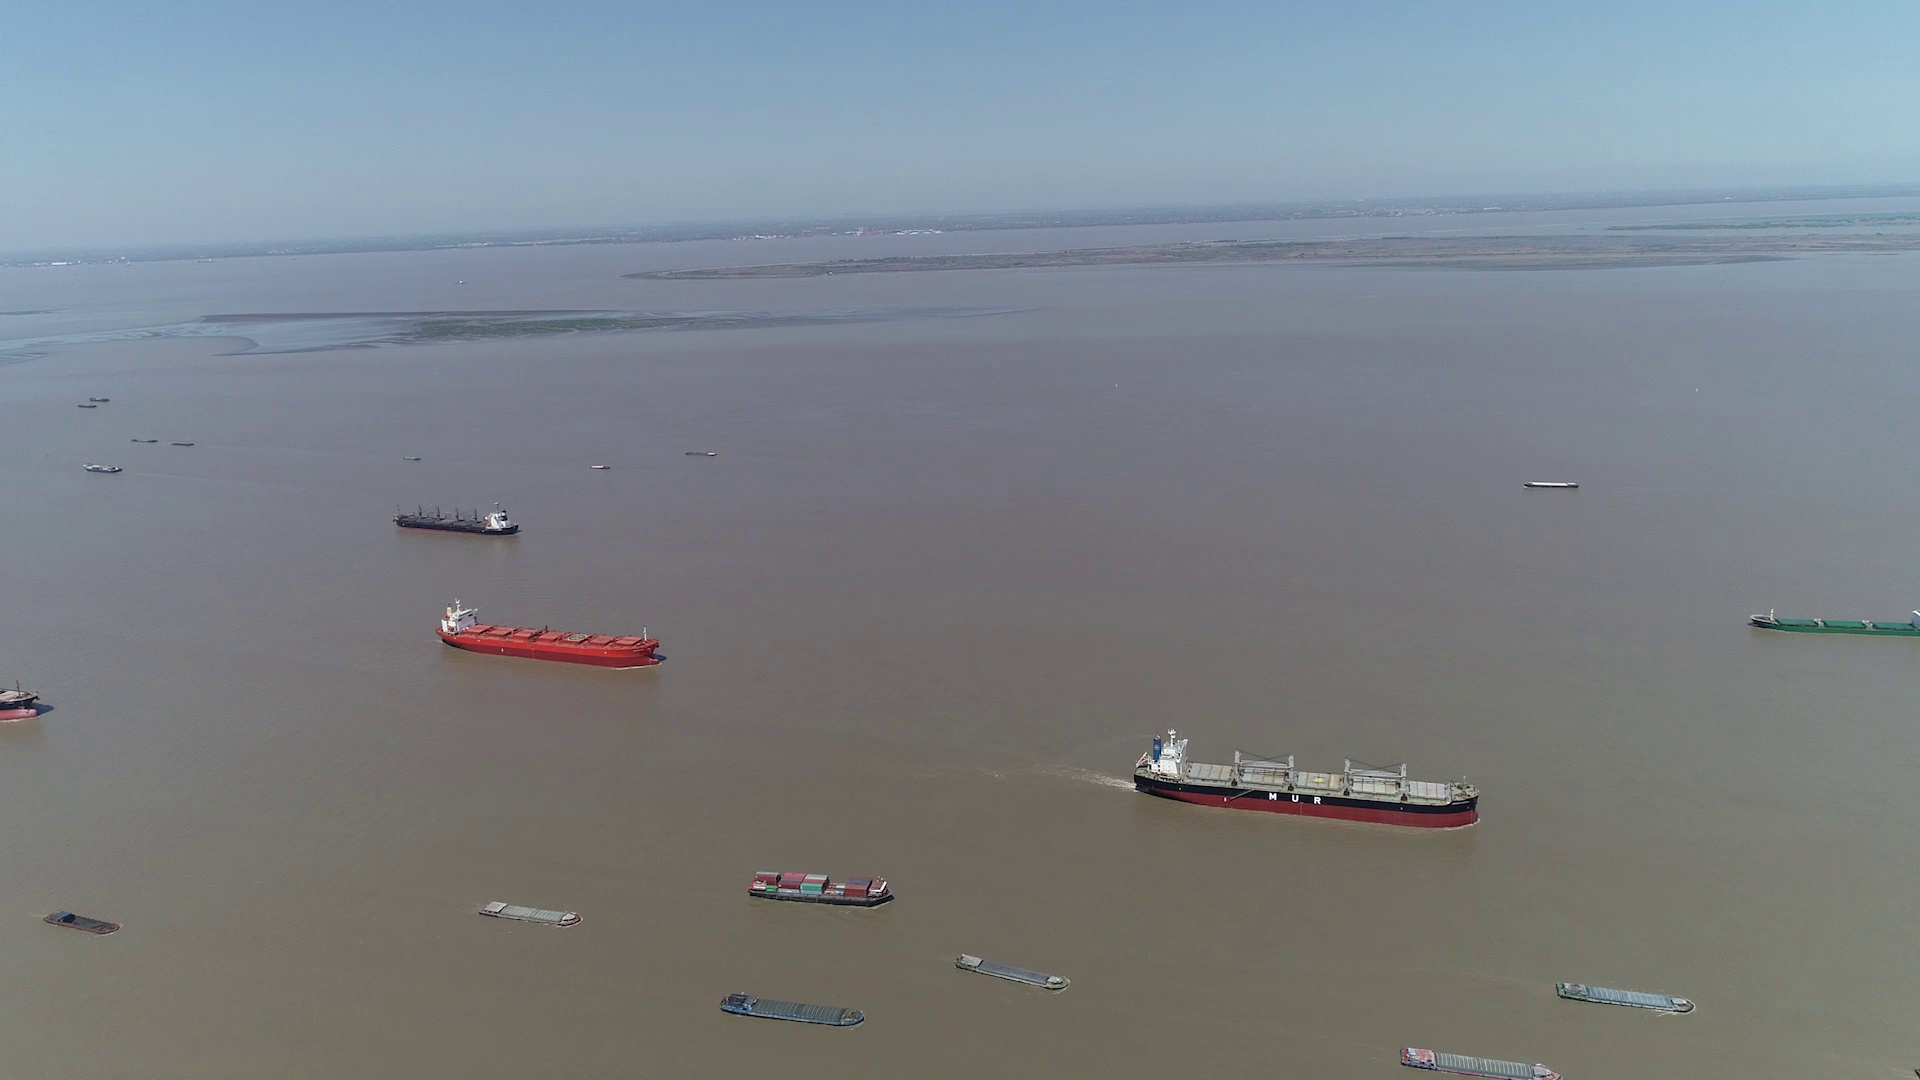ship: (1134, 729, 1480, 825), (438, 599, 659, 667), (746, 869, 893, 907), (1400, 1044, 1560, 1079), (721, 992, 864, 1027), (1751, 608, 1917, 637), (1556, 978, 1695, 1013), (953, 953, 1069, 993), (392, 504, 520, 535), (479, 899, 582, 926), (0, 675, 47, 725), (45, 911, 120, 934), (1524, 480, 1578, 489), (84, 462, 124, 473), (684, 450, 720, 456)
